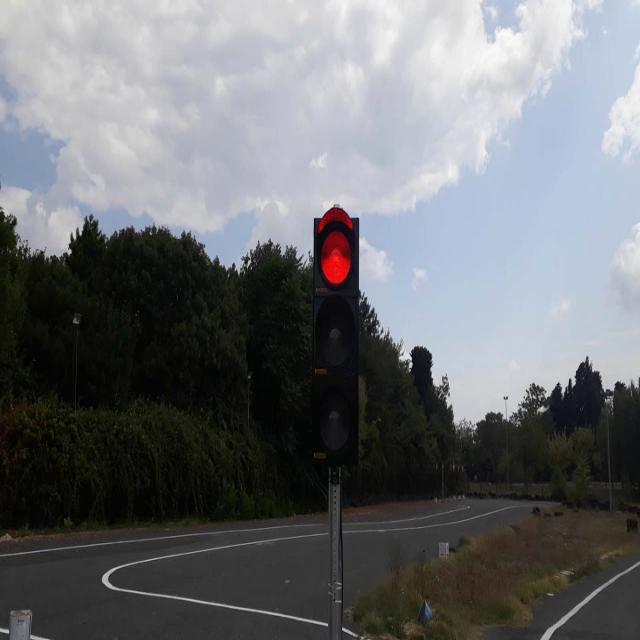kirmizi: (316, 206, 358, 464)
